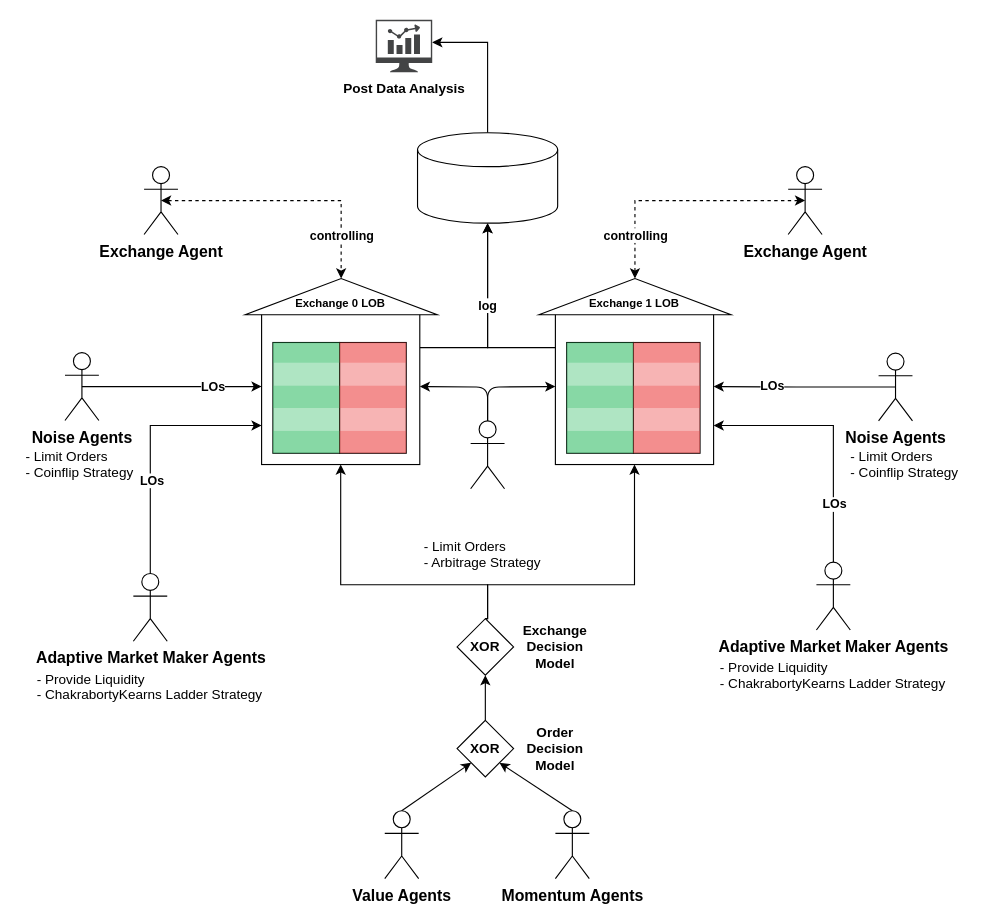
This 1000x924 diagram has some shape labels left out. The shapes that lost their labels are listed below. From the top down, each one's box as (x1, y1, x2, y2) in pixels, then its label:
(416, 132, 558, 223): ExperimentLogger
(470, 420, 505, 489): Intermarket Spread Arbitrage Machine
